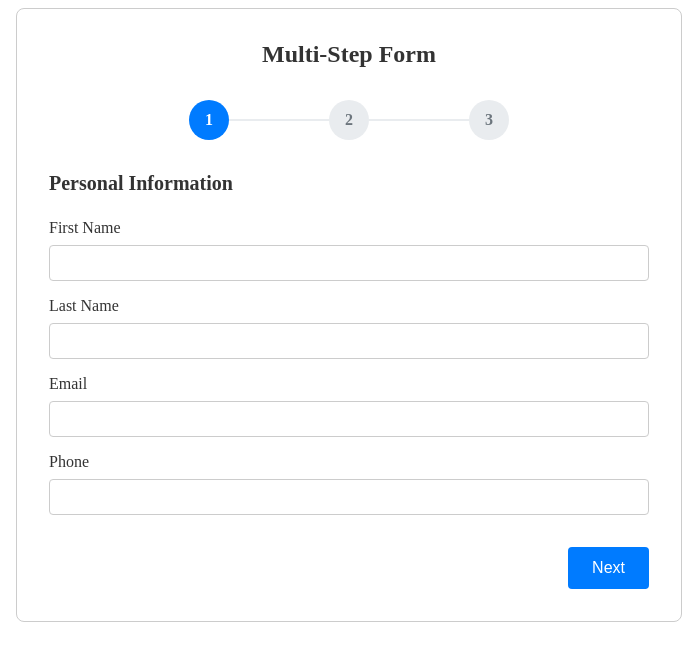
Test case: MultiStepForm Component › Step 1 - Personal Information › should show validation error for invalid email format
In the field with test id "input-firstName": (349, 263) [49, 245, 649, 281], type "John"
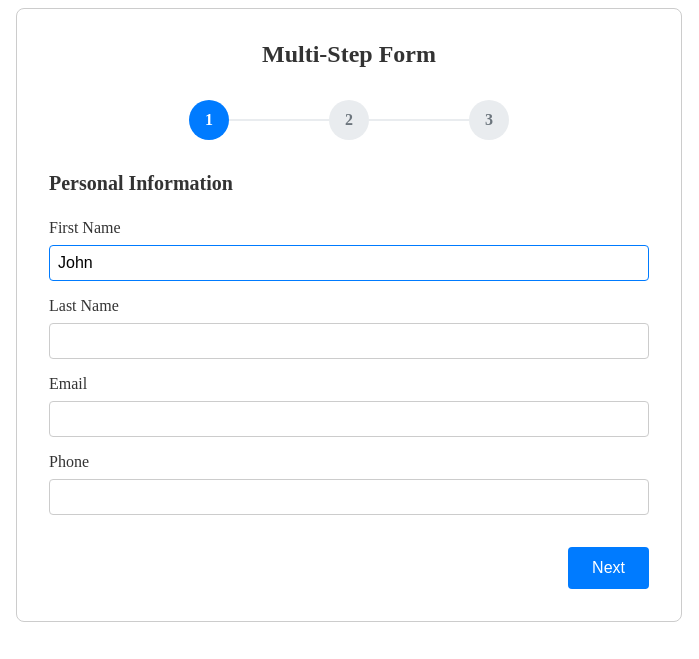
In the field with test id "input-lastName": (349, 341) [49, 323, 649, 359], type "Doe"
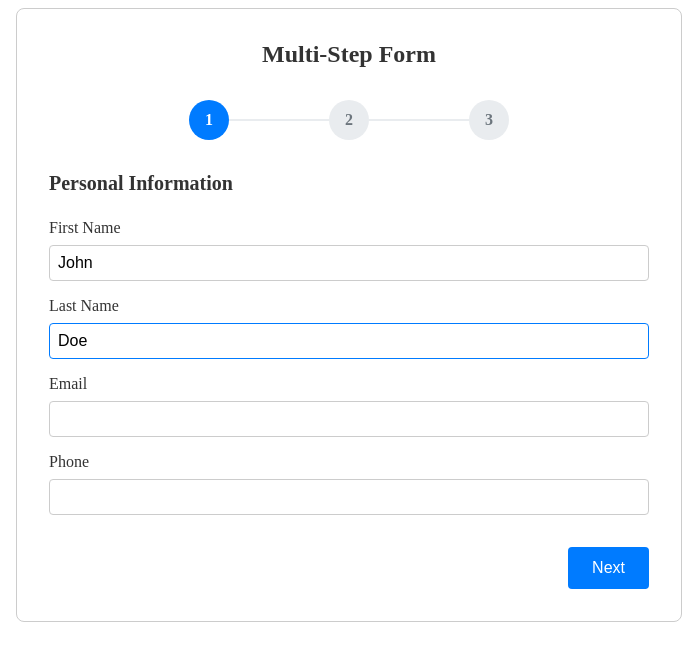
In the field with test id "input-email": (349, 419) [49, 401, 649, 437], type "invalid-email"
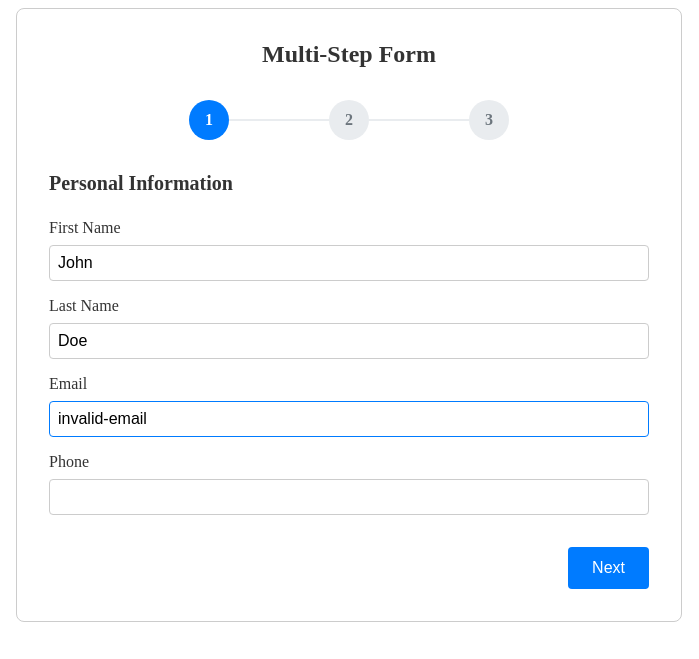
In the field with test id "input-phone": (349, 497) [49, 479, 649, 515], type "1234567890"
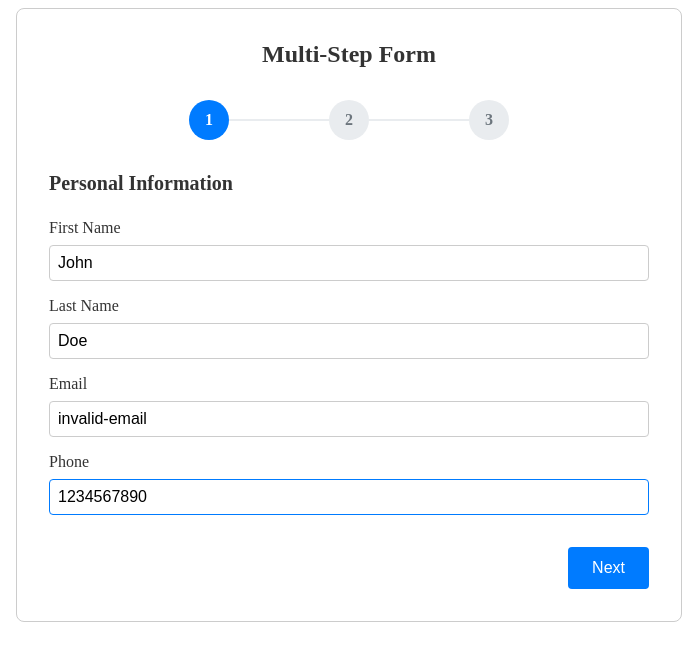
Click the button with test id "form-next": (609, 568) [568, 547, 649, 589]
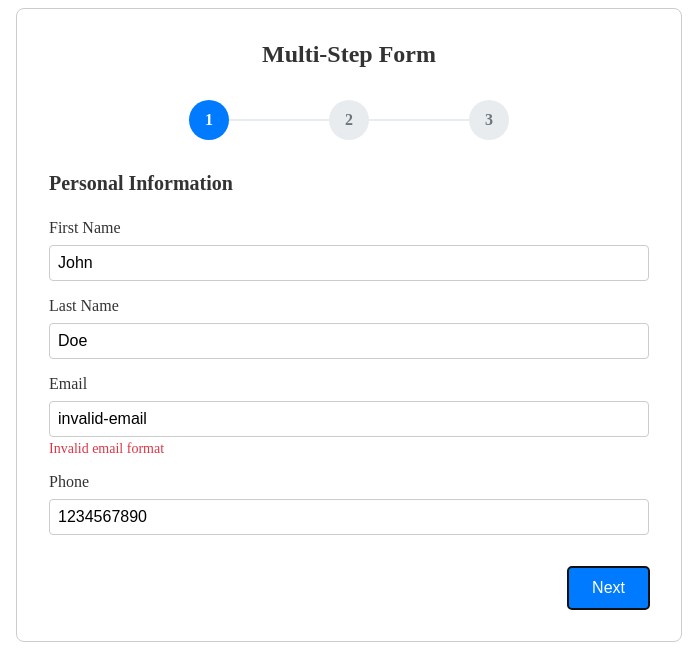
Expected: the text with test id "error-email" reads "Invalid email format", [49, 441, 164, 456]
